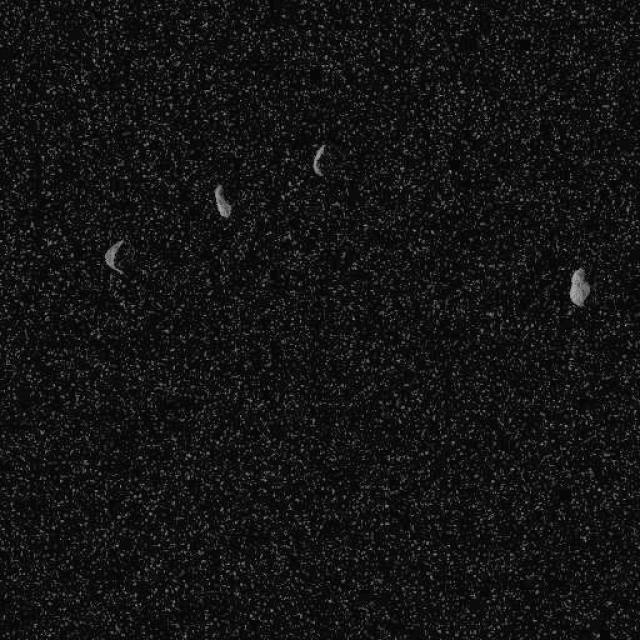D2: (102, 238, 126, 276), (568, 266, 590, 306), (212, 182, 232, 218), (312, 142, 326, 176)
